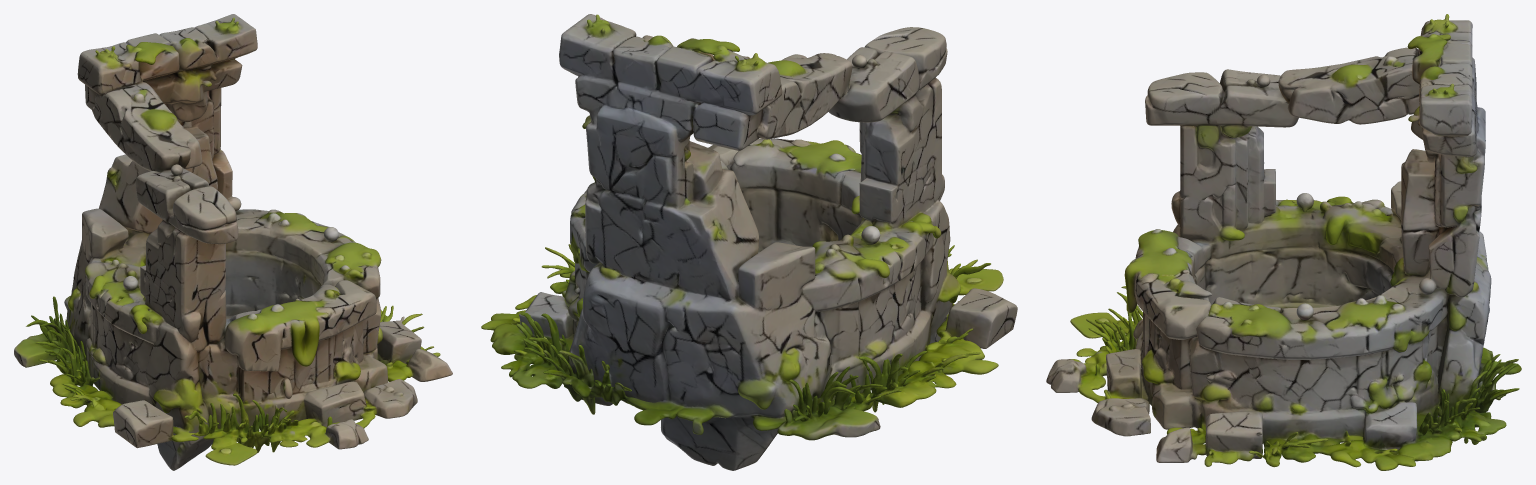
Rendered from ruin_well.glb.
The picture shows the model from 3 angles, left to right: view 1: azimuth 30°, elevation 25°; view 2: azimuth 150°, elevation 25°; view 3: azimuth 270°, elevation 25°; orthographic projection. The views are drawn at different scales.
Visible parts, largest first — view 1: tripo_node_9010d40f-6b55-4ddd-a059-8f6eef943ca7; view 2: tripo_node_9010d40f-6b55-4ddd-a059-8f6eef943ca7; view 3: tripo_node_9010d40f-6b55-4ddd-a059-8f6eef943ca7.
Part boxes in pixels (x1,y1,x2,y2): tripo_node_9010d40f-6b55-4ddd-a059-8f6eef943ca7: (14, 14, 452, 470); tripo_node_9010d40f-6b55-4ddd-a059-8f6eef943ca7: (481, 14, 1017, 470); tripo_node_9010d40f-6b55-4ddd-a059-8f6eef943ca7: (1046, 14, 1521, 470).
Bounding box in the file's own units: 0.9761 × 0.8885 × 1.
1 material, 1 textured.
